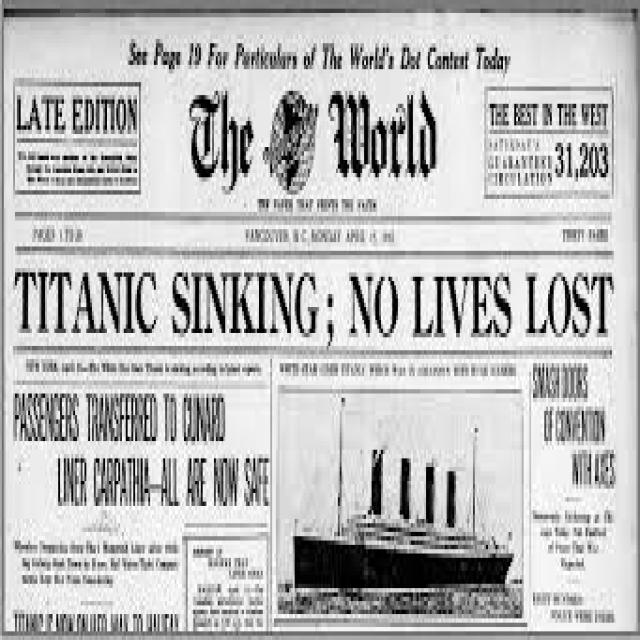paper: (5, 0, 639, 639)
